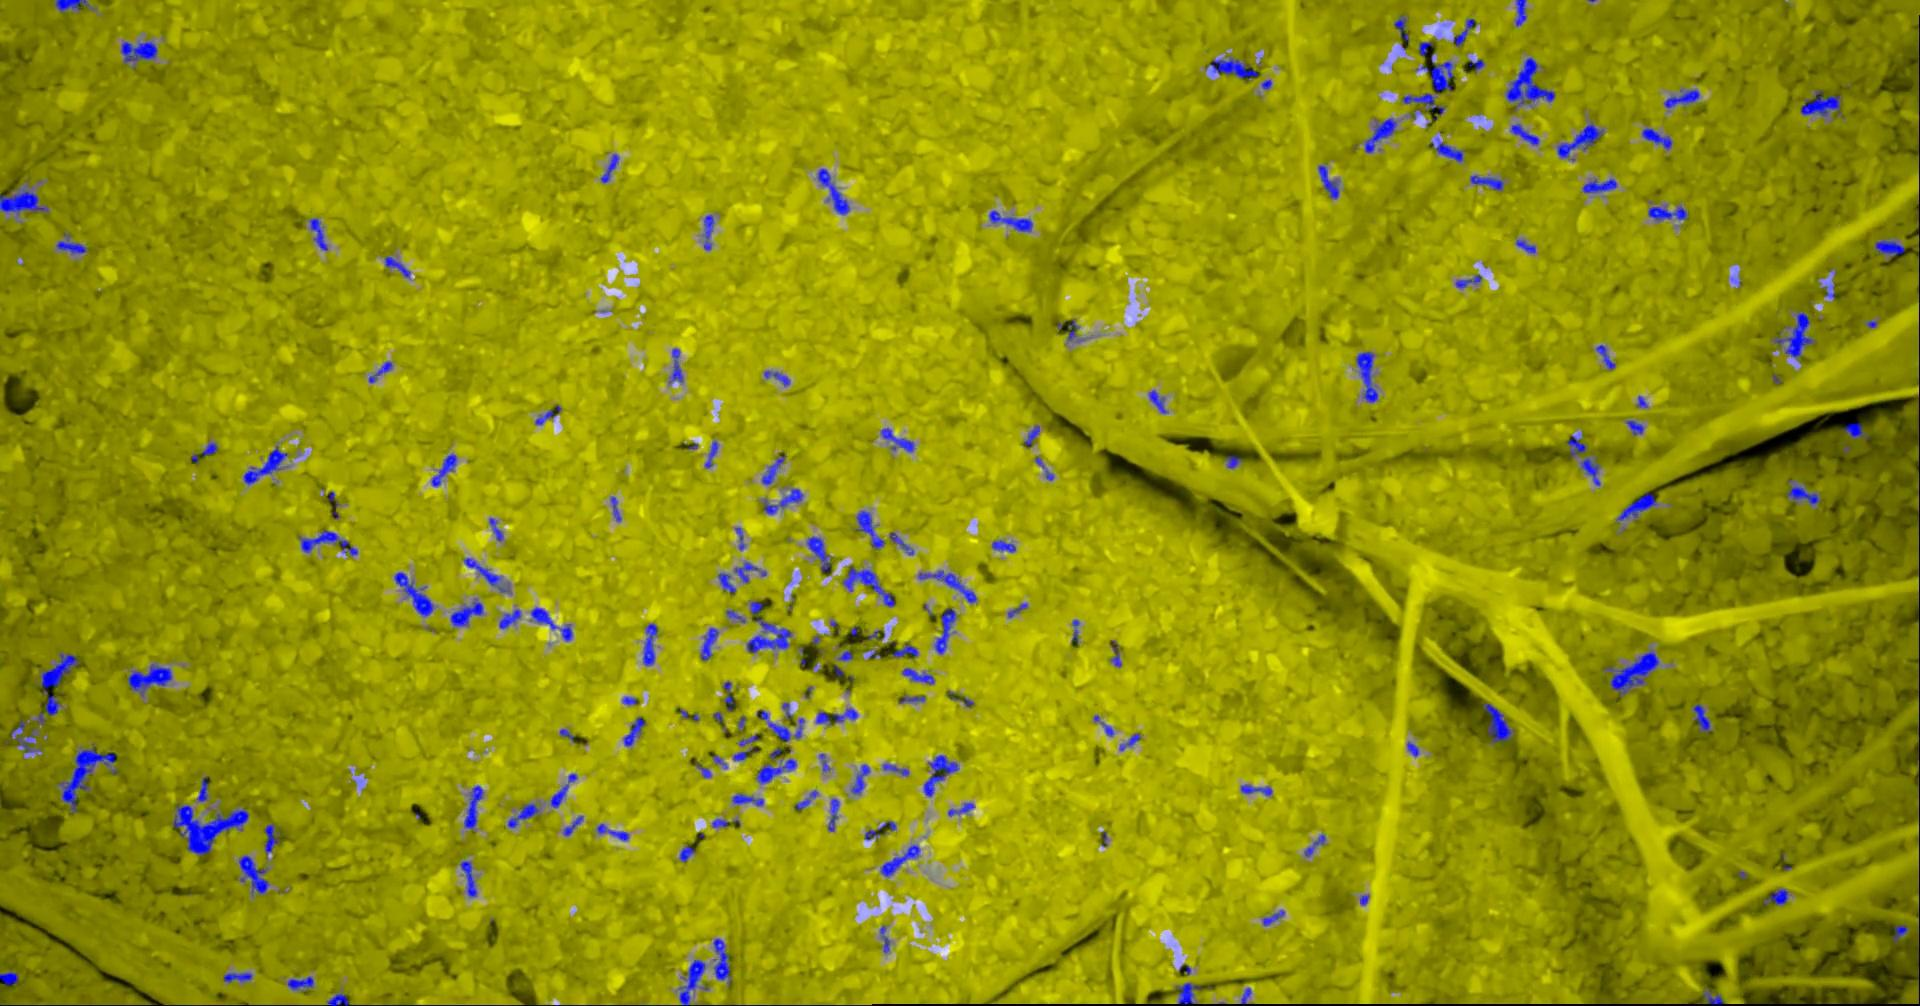ant: (36, 652, 77, 724), (1603, 652, 1658, 696), (1505, 57, 1554, 107), (842, 567, 894, 606), (1771, 311, 1813, 358), (918, 570, 977, 602), (394, 572, 433, 616), (243, 446, 287, 484), (1556, 122, 1603, 158), (463, 558, 509, 592), (745, 617, 791, 652), (298, 528, 357, 555), (756, 709, 804, 741), (817, 168, 850, 213), (923, 754, 959, 796), (530, 607, 571, 641), (127, 663, 171, 695), (880, 843, 919, 876), (237, 855, 268, 895), (1208, 57, 1258, 81), (1481, 702, 1511, 742), (0, 188, 47, 213), (1416, 61, 1453, 93), (679, 959, 705, 1005), (1615, 492, 1656, 520), (1355, 351, 1377, 401), (1364, 118, 1396, 152), (1801, 89, 1841, 116), (855, 511, 884, 547), (763, 488, 803, 514), (988, 210, 1032, 231), (757, 758, 796, 782), (1401, 93, 1444, 114), (935, 608, 955, 653), (450, 600, 483, 626), (10, 719, 37, 752), (550, 774, 577, 807), (119, 41, 157, 64), (806, 536, 830, 572), (463, 785, 483, 829), (430, 453, 456, 486), (712, 937, 730, 984), (880, 427, 914, 451), (1427, 138, 1463, 161), (507, 803, 538, 827), (1317, 165, 1338, 198), (761, 455, 785, 484), (815, 708, 857, 724), (1641, 127, 1671, 149), (1663, 89, 1699, 107), (458, 860, 476, 895), (623, 716, 645, 746), (1785, 485, 1818, 504), (309, 218, 328, 250), (56, 234, 88, 253), (863, 821, 895, 840), (1453, 18, 1474, 46), (1510, 123, 1538, 145), (643, 622, 657, 666), (1647, 206, 1688, 220), (700, 627, 717, 659), (599, 152, 618, 182), (1691, 702, 1710, 732), (1177, 982, 1201, 1005), (902, 667, 935, 683), (596, 823, 629, 840), (383, 257, 410, 277), (851, 763, 869, 794), (1580, 457, 1599, 485), (889, 532, 913, 554), (1874, 239, 1903, 257), (1595, 344, 1615, 370), (1470, 175, 1503, 191), (668, 347, 682, 382), (368, 361, 391, 382), (734, 561, 758, 582), (535, 405, 560, 424), (1582, 178, 1617, 192), (1843, 422, 1869, 439), (795, 789, 817, 810), (1303, 835, 1324, 856), (1566, 434, 1586, 457), (264, 823, 279, 854), (1393, 14, 1410, 41), (498, 608, 521, 627), (1148, 389, 1166, 413), (1763, 888, 1788, 904), (702, 213, 714, 249), (731, 793, 763, 805), (763, 370, 789, 385), (891, 643, 917, 658), (947, 690, 973, 705), (287, 976, 312, 991), (1119, 732, 1140, 749), (55, 0, 88, 11), (827, 798, 838, 831), (703, 441, 717, 467), (947, 801, 974, 815), (723, 681, 735, 710), (1239, 784, 1271, 795), (563, 815, 582, 835), (717, 573, 735, 593), (488, 517, 503, 540), (990, 539, 1015, 553), (1262, 909, 1284, 925), (1703, 989, 1724, 1005), (1455, 274, 1481, 287), (733, 747, 757, 760), (1892, 923, 1909, 941), (1515, 0, 1526, 25), (1023, 426, 1039, 445), (883, 763, 908, 775), (1007, 603, 1027, 617), (223, 972, 251, 982), (196, 777, 207, 801), (326, 992, 348, 1005), (328, 492, 338, 518), (879, 925, 889, 951), (1515, 239, 1535, 251), (610, 495, 620, 521), (1110, 640, 1120, 666), (679, 845, 695, 861), (1625, 420, 1643, 434), (0, 970, 18, 984), (1065, 319, 1077, 340), (738, 734, 758, 746), (1070, 619, 1079, 644), (1468, 58, 1484, 71), (201, 442, 217, 455), (898, 695, 924, 702), (1239, 987, 1251, 1005), (1418, 41, 1431, 56), (1225, 455, 1241, 467), (1407, 742, 1418, 756), (711, 818, 728, 827), (750, 601, 762, 614)
